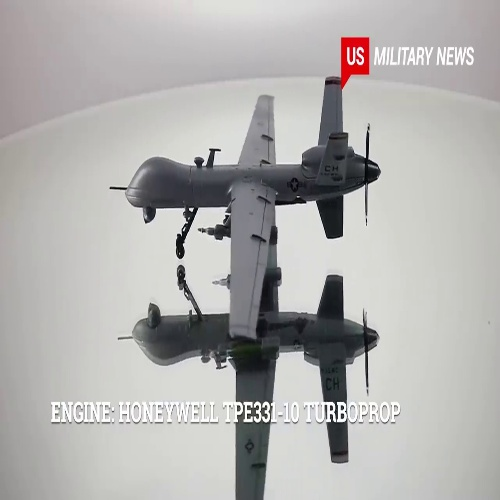uav126: (113, 73, 380, 334)
